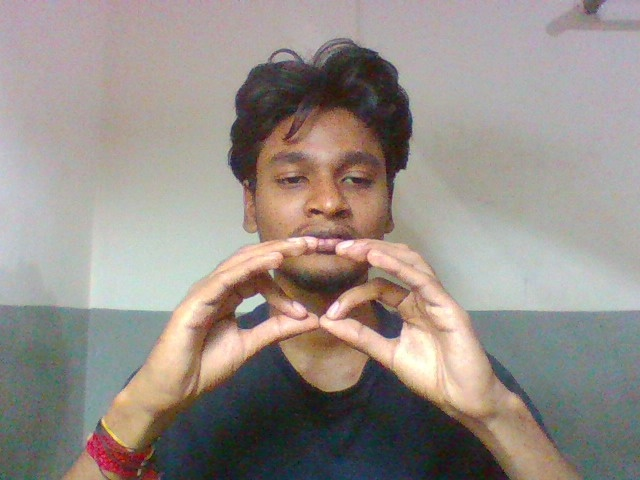B: (132, 234, 510, 422)
